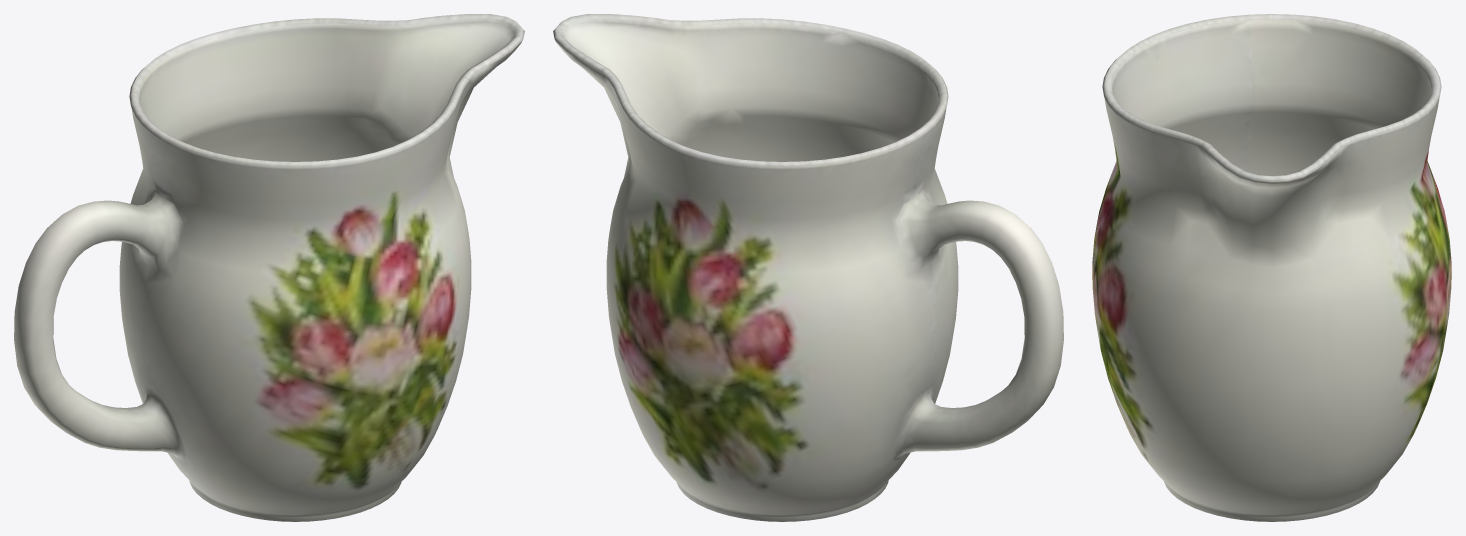
The model's file is jug_01.glb.
3 renders of one model, left to right at view 1: azimuth 30°, elevation 25°; view 2: azimuth 150°, elevation 25°; view 3: azimuth 270°, elevation 25°, orthographic. The views are drawn at different scales.
Parts seen in each view (by area): view 1: jug_01; view 2: jug_01; view 3: jug_01.
Part boxes in pixels (bbox=[...]): jug_01: bbox=[14, 14, 524, 521]; jug_01: bbox=[553, 14, 1063, 521]; jug_01: bbox=[1092, 14, 1451, 521].
Size of the model in its own units: 0.2753 by 0.2113 by 0.1675.
Materials: 1 (1 with a texture image).
